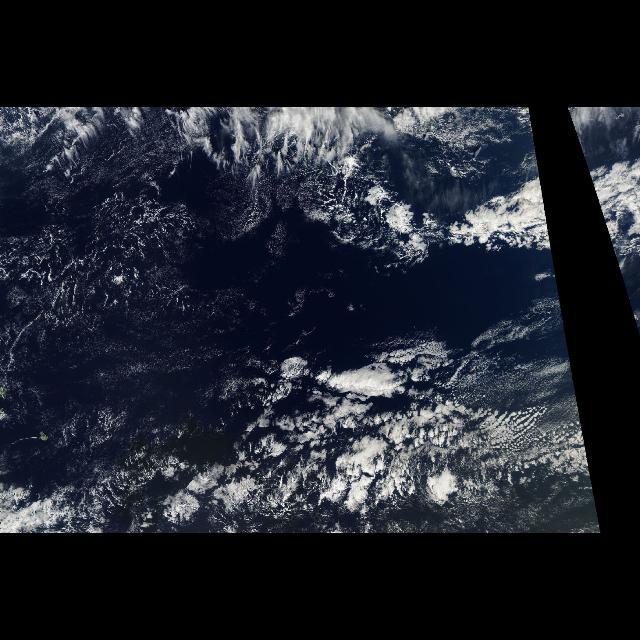Fish: (444, 143, 552, 253), (578, 143, 640, 253)
Gravel: (232, 390, 538, 504), (8, 200, 230, 342)
Sugar: (9, 180, 298, 452), (447, 288, 587, 440)
